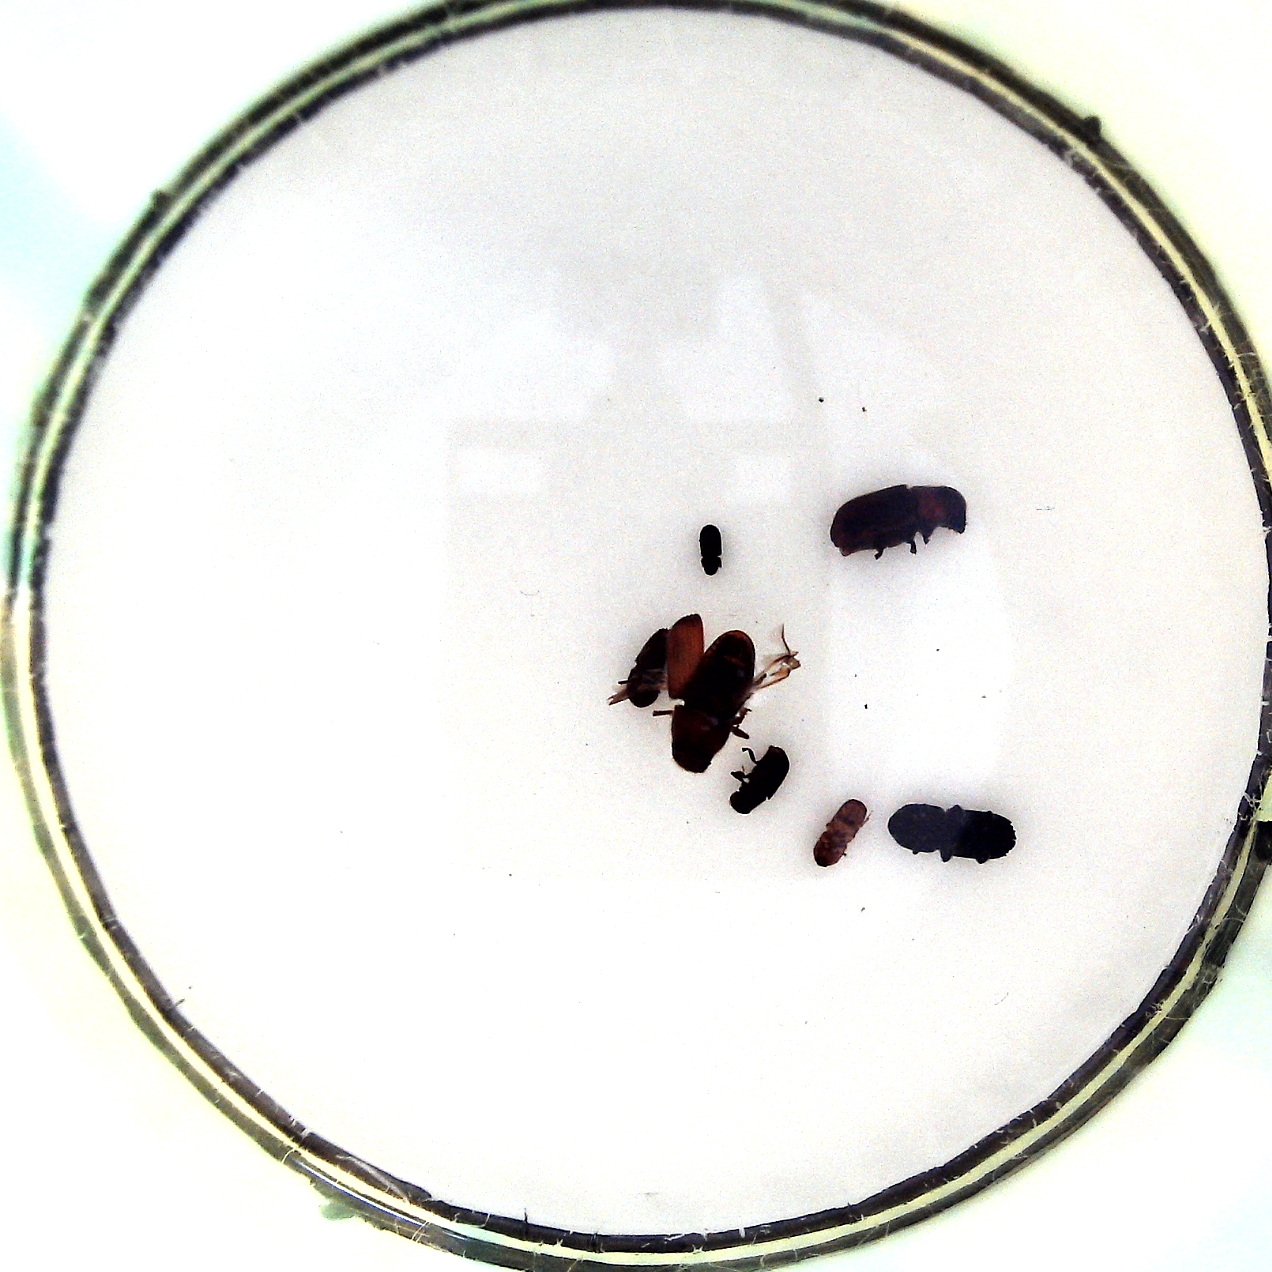Boerner: (885, 798, 1015, 865)
Leconte: (665, 612, 800, 773), (826, 478, 970, 565)
Linnaeus: (633, 624, 667, 709)
acuminatus: (813, 796, 869, 865)
armandi: (723, 740, 787, 817)
coleoptera: (692, 524, 726, 581)
